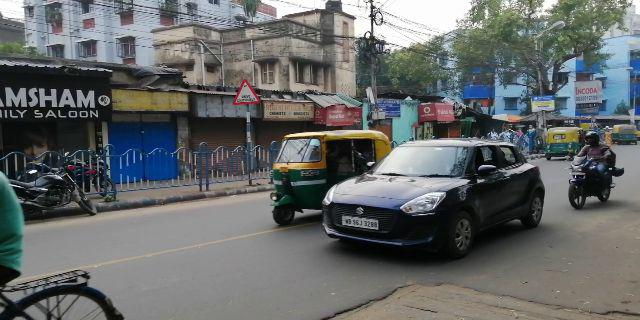Autorickshaw: (269, 134, 323, 222)
Car: (323, 139, 549, 257)
Motorbike: (564, 132, 622, 210)
